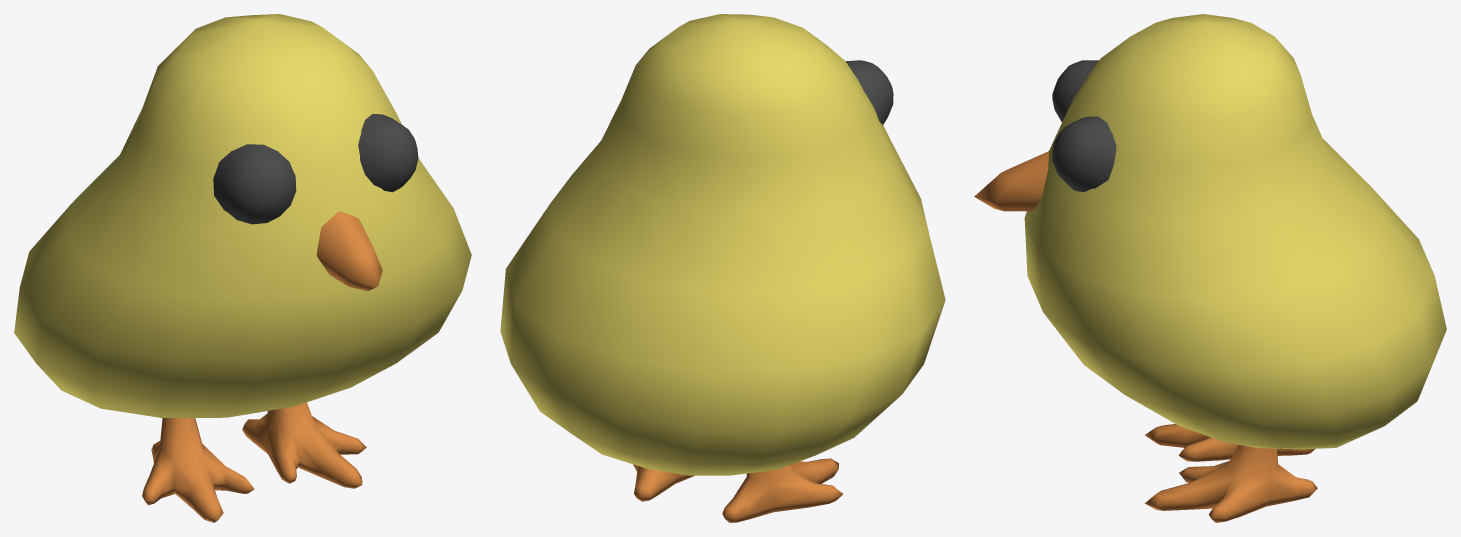
Rendered from Chick.fbx.
3 renders of one model, left to right at view 1: azimuth 30°, elevation 25°; view 2: azimuth 150°, elevation 25°; view 3: azimuth 270°, elevation 25°, orthographic. The views are drawn at different scales.
Visible parts, largest first — view 1: Chick; view 2: Chick; view 3: Chick.
Boxes of the visible parts, x1,y1,x2,y2 form: Chick: (14, 14, 471, 522); Chick: (500, 14, 945, 522); Chick: (974, 14, 1446, 522).
Bounding box in the file's own units: 9.38 × 10.4 × 9.8.
